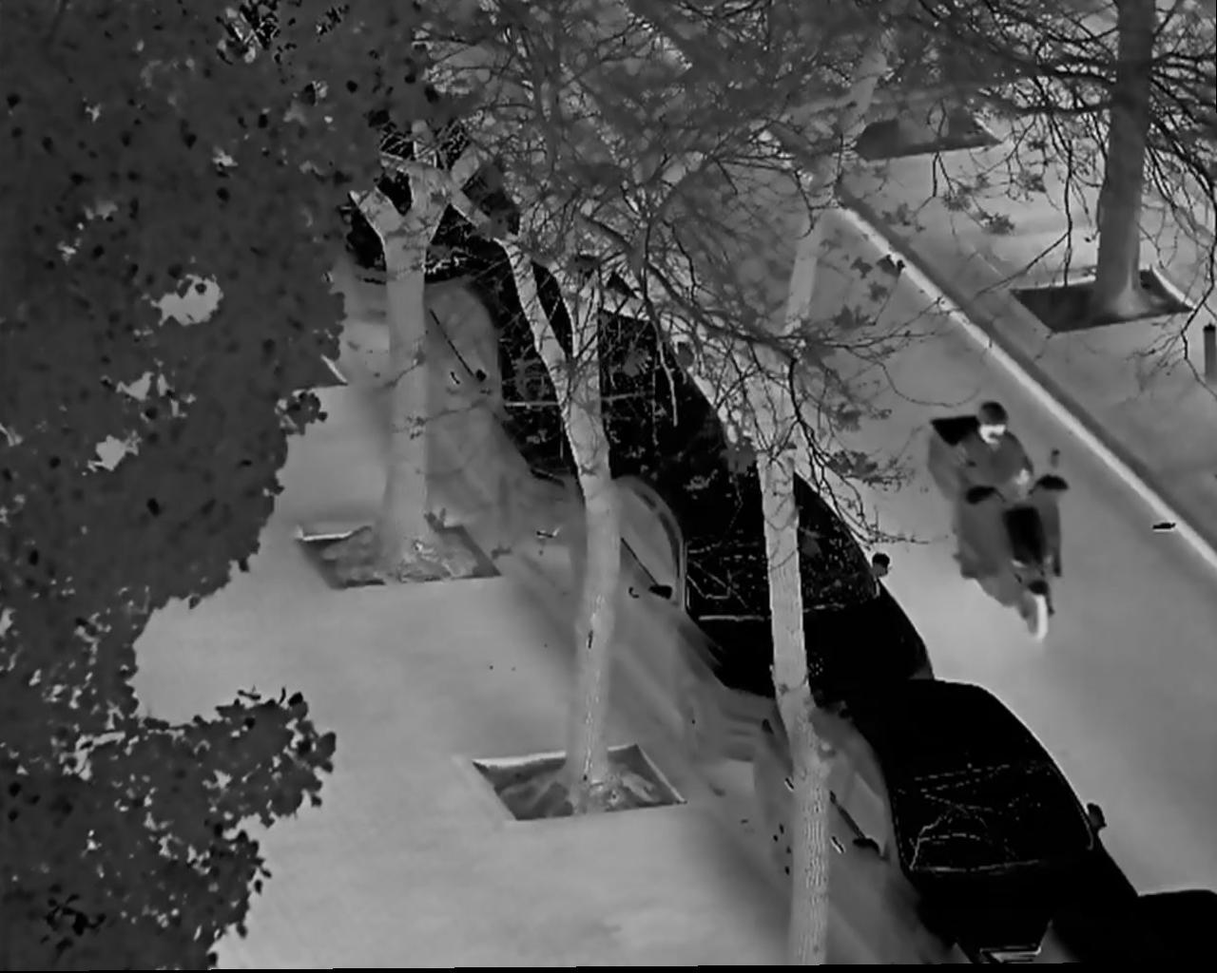person: (956, 406, 1044, 573)
